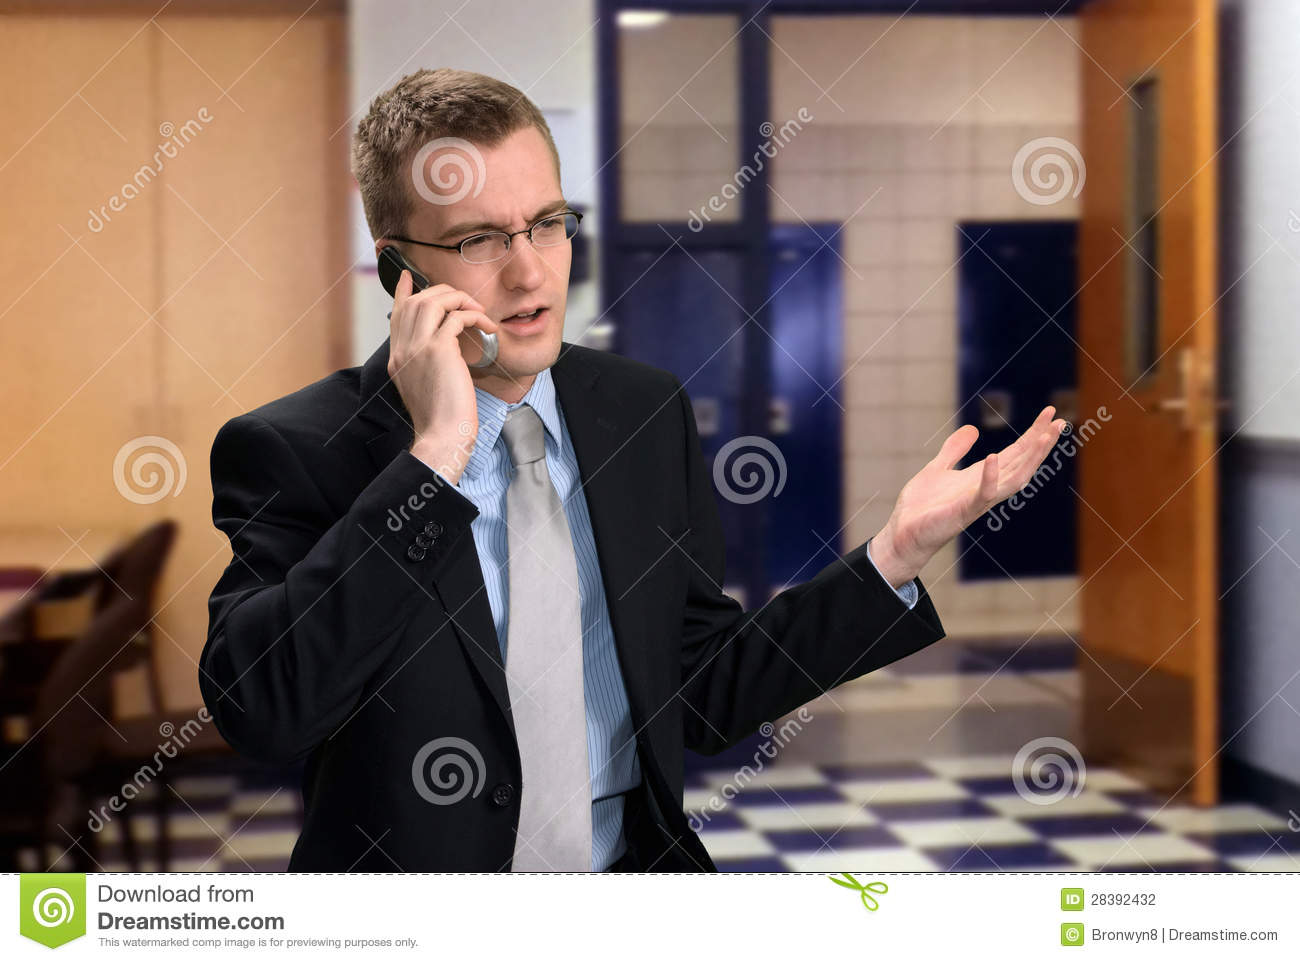phone: (381, 253, 498, 372)
talk: (380, 195, 570, 460)
